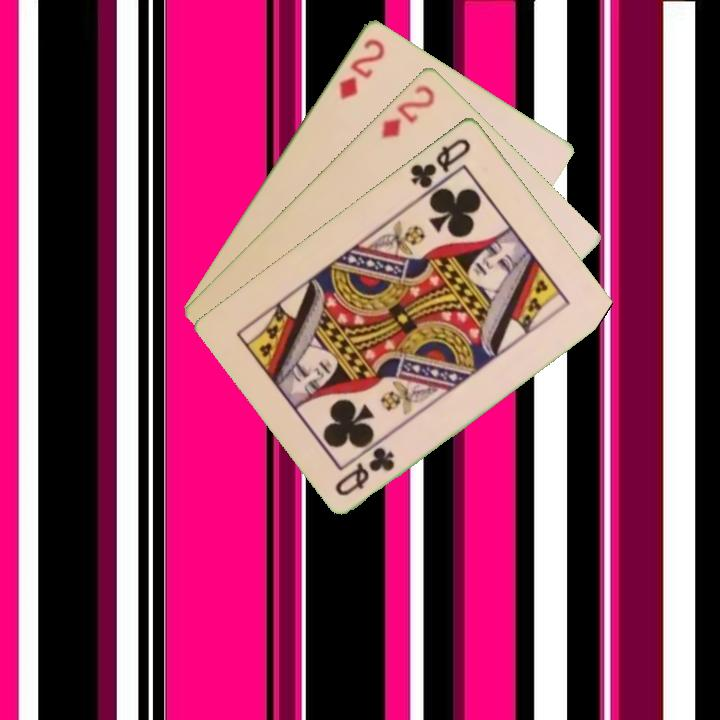2d: (335, 34, 388, 102), (378, 81, 438, 141)
Qc: (406, 134, 474, 199), (331, 443, 398, 499)
